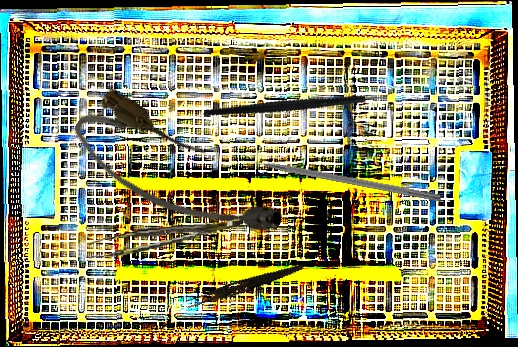Cannula: (62, 81, 293, 270)
Chopper: (202, 38, 400, 163)
Dressing Forceps: (184, 258, 305, 313)
Hook Surgical: (237, 153, 442, 202)
Tissue Forceps: (87, 219, 245, 259)
